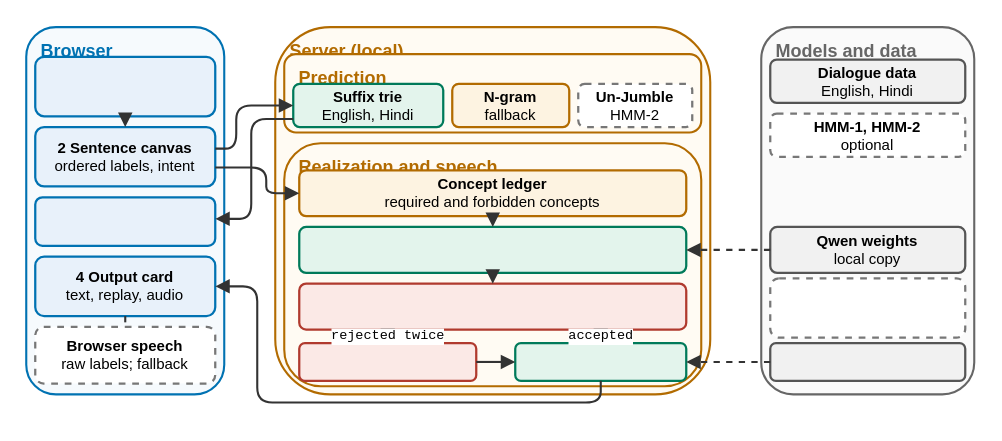
Some shapes in this 1002 by 441 pixel diagram are drawn without their labels. Each missing label, with the centre of its shape:
1 Symbol board 69 symbols, 9 categories: point (124, 86)
3 Next-word shelf suggestions: point (124, 220)
Concept gate polarity, concepts, intent, extra content: point (492, 306)
IndicF5 + reference clips: point (867, 361)
Optional services sign-in, symbol art, transliteration: point (867, 307)
Qwen2.5-0.5B-Instruct cascade realize, refine, verify; one retry: point (492, 249)
Speech synthesis: point (600, 361)
Template floor: point (387, 361)
